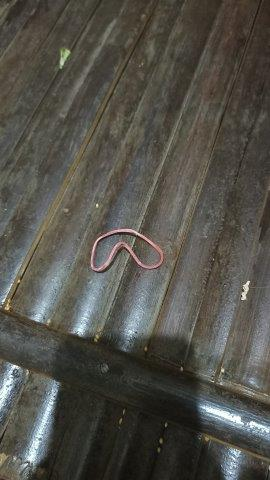karet: (90, 228, 165, 272)
